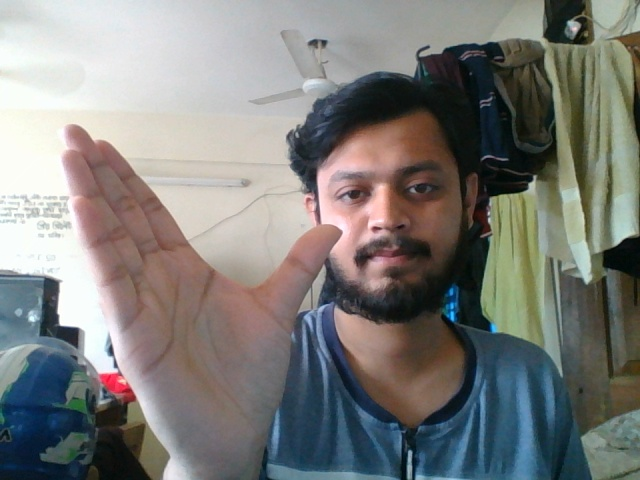a: (44, 117, 357, 480)
